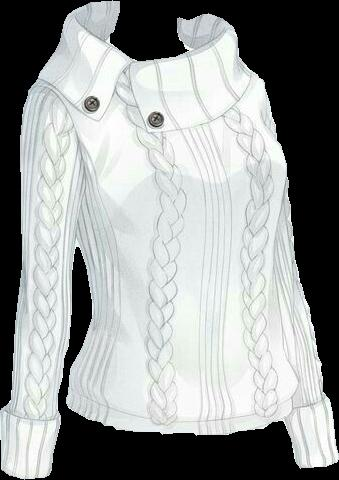Bodice: (38, 1, 300, 434)
Neckline: (69, 13, 230, 62)
Sleeve: (0, 77, 80, 478), (275, 188, 338, 468)
Sleeveline: (38, 77, 86, 243), (6, 404, 58, 422), (292, 392, 328, 411)
Waistline: (65, 401, 291, 436)
